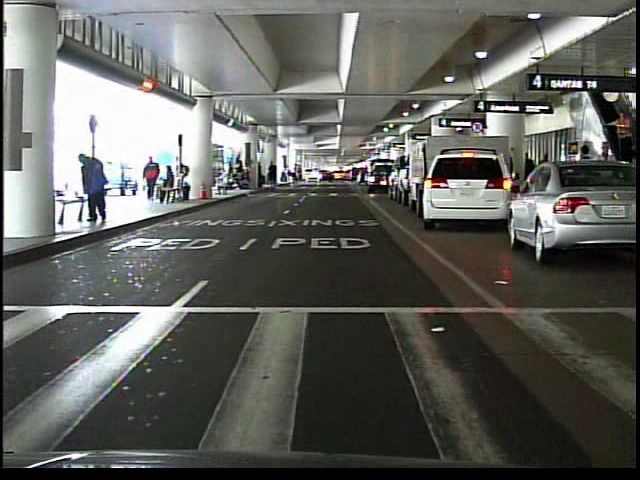person: (76, 150, 111, 226), (606, 107, 633, 160), (215, 167, 232, 202), (285, 163, 300, 192)
